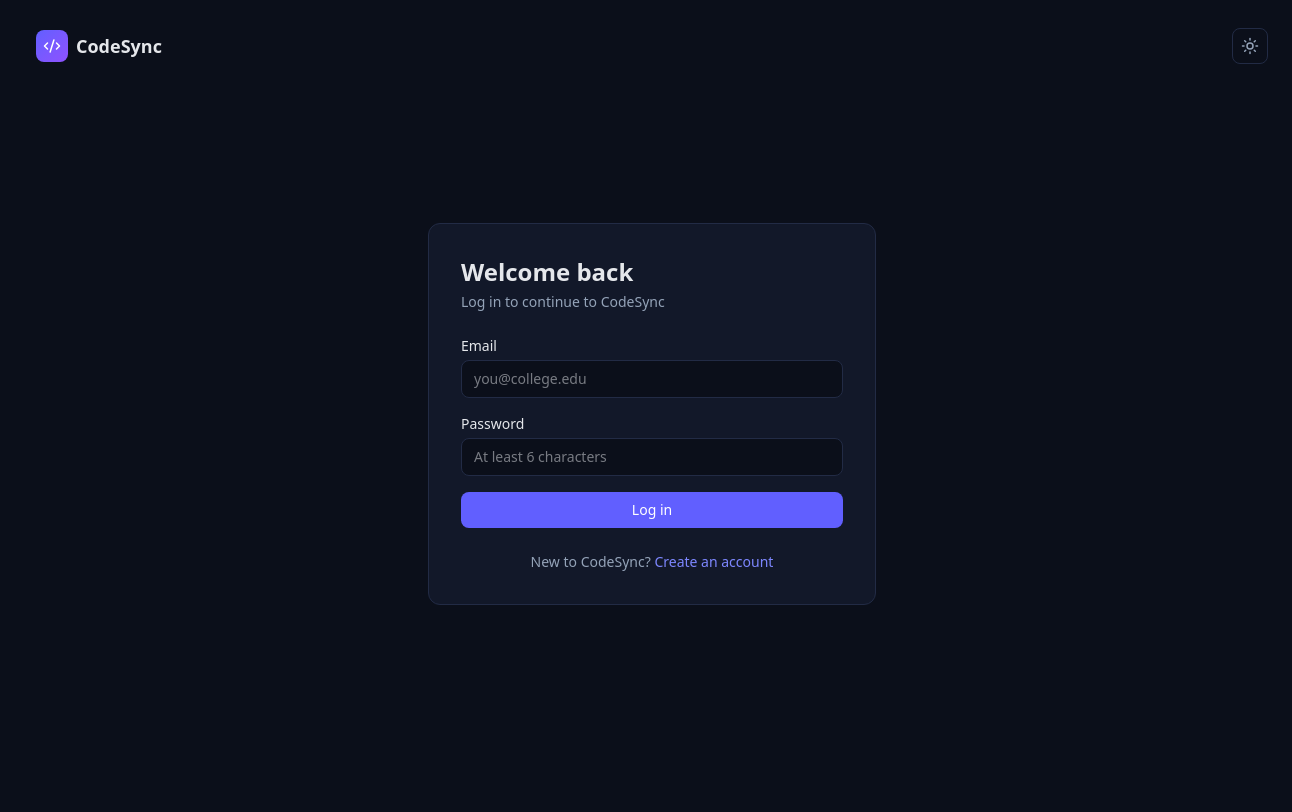
Test: Login page › logs in and goes to the dashboard
This screenshot has width=1292, height=812.
Step 1. Type "asha@college.edu" into the field labelled "Email" → (652, 379), box [461,360,843,398]
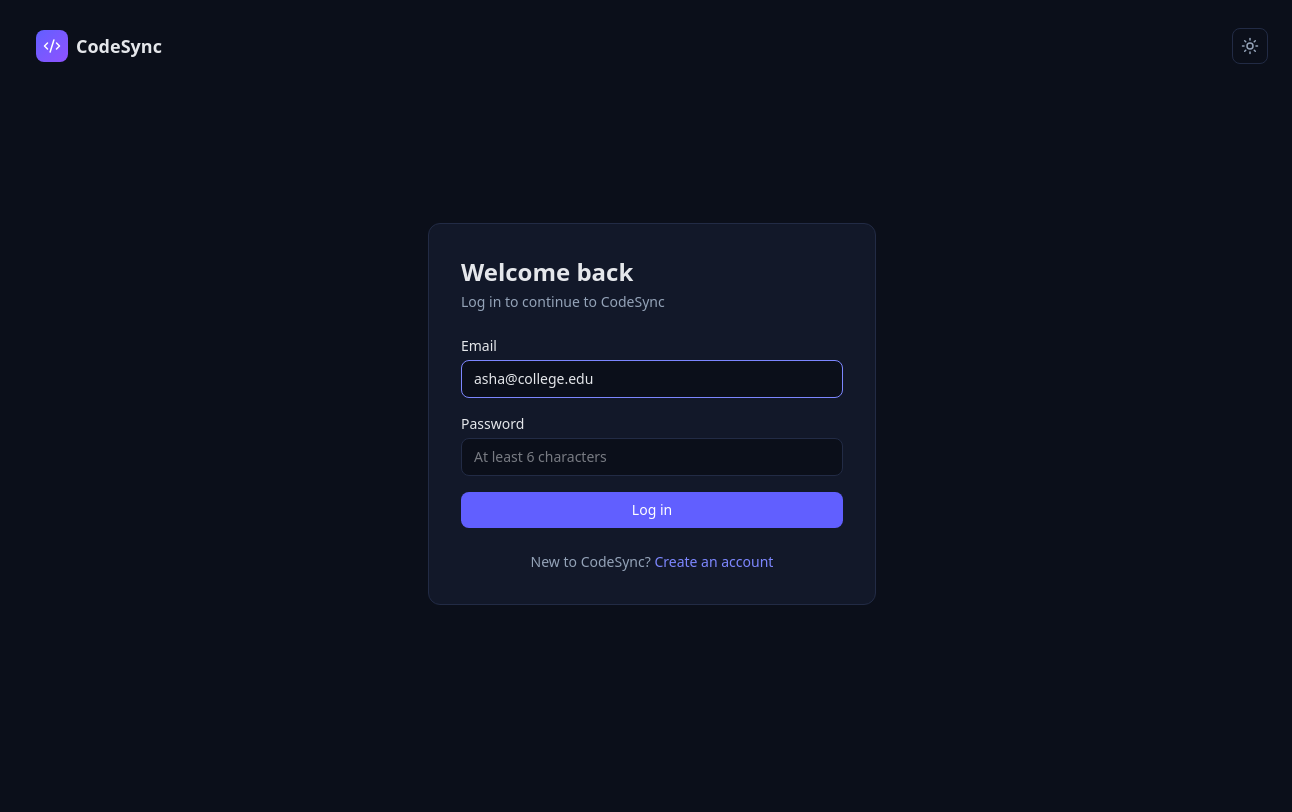
Step 2. Type "secret123" into the password field labelled "Password" → (652, 457), box [461,438,843,476]
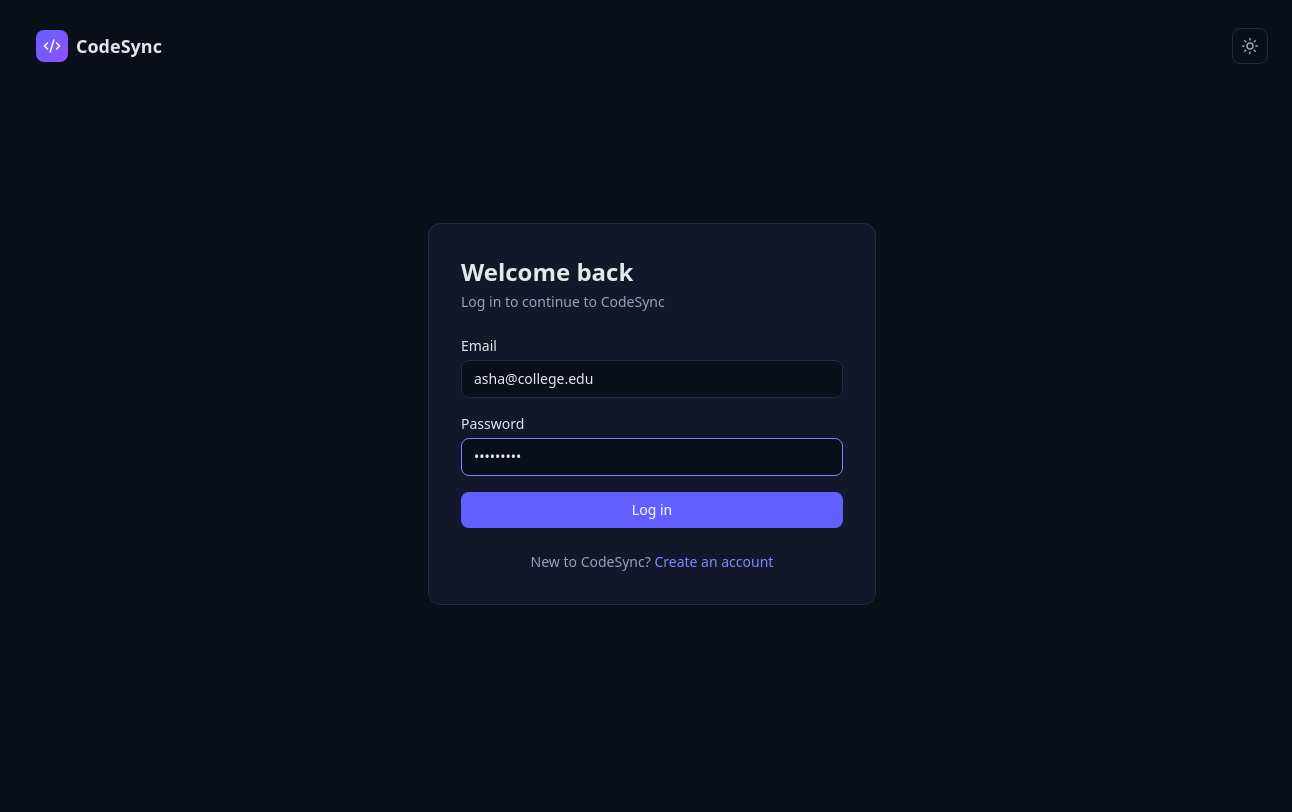
Step 3. Click the button "Log in" → (652, 510), box [461,492,843,528]
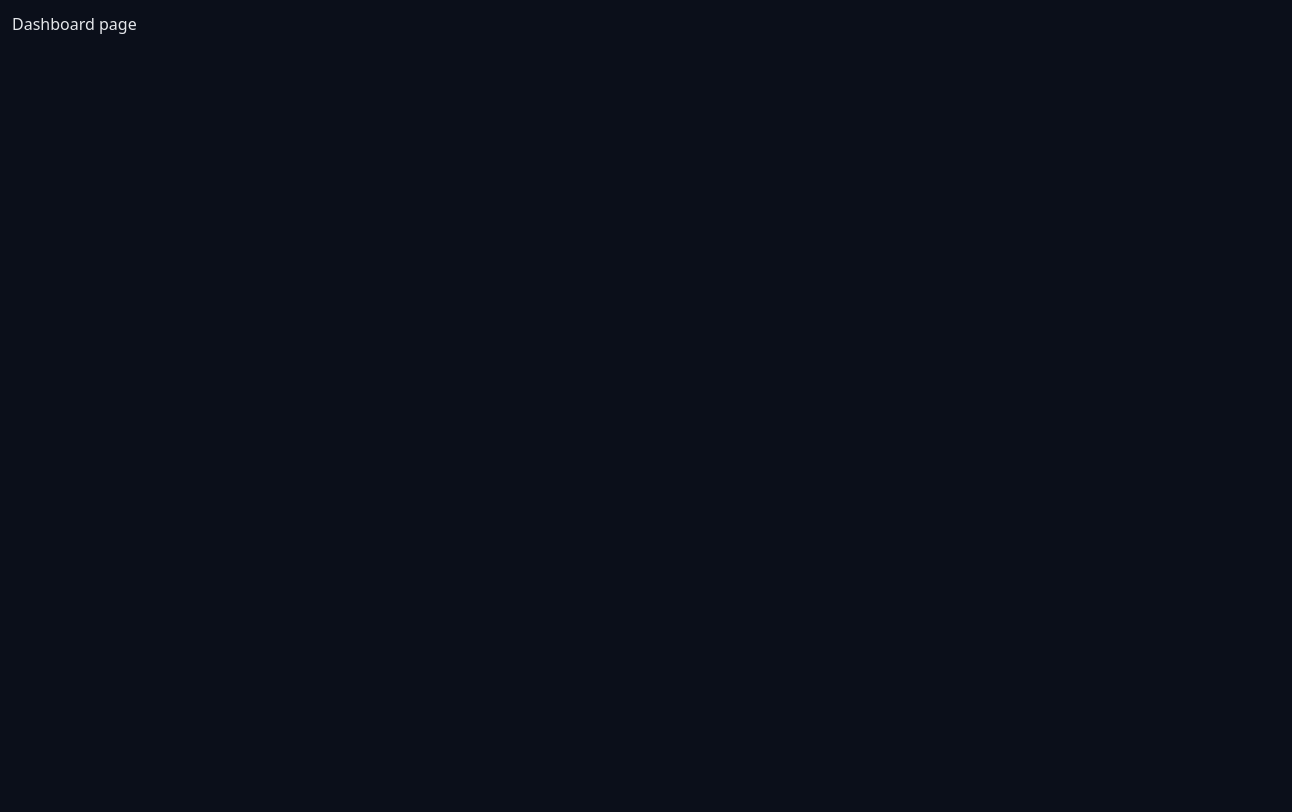
Expected: the text "Dashboard page" is shown, [12,13,137,35]
